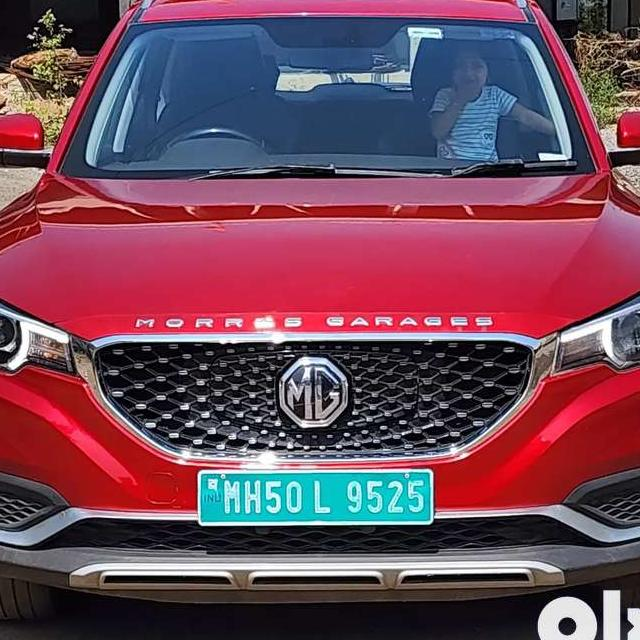Indian_Number_Plate: (200, 472, 432, 521)
